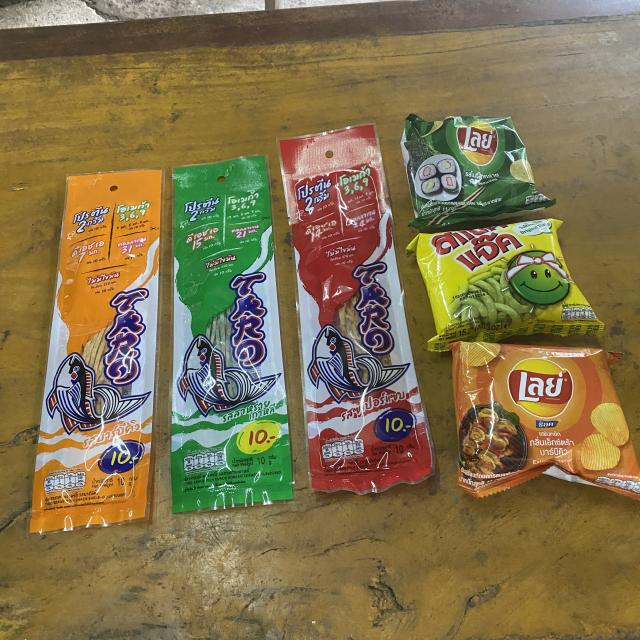plastik: (279, 124, 434, 494), (30, 170, 162, 532), (171, 155, 292, 512), (449, 341, 640, 500), (406, 219, 604, 351), (401, 114, 555, 229)
